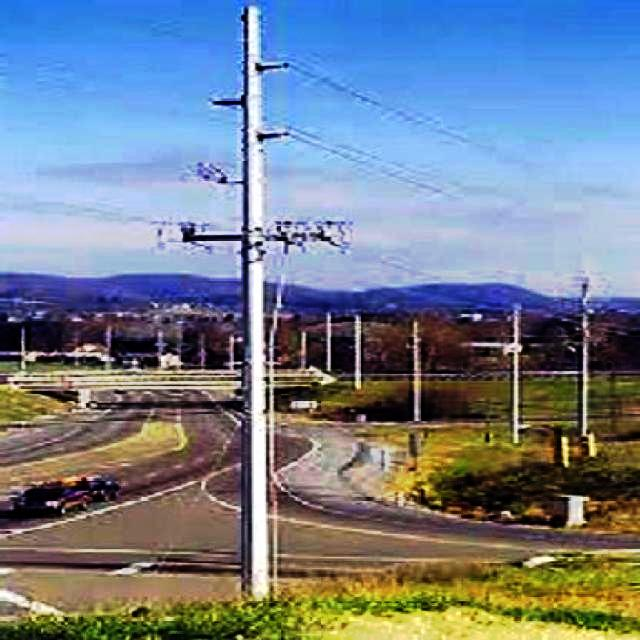poles: (163, 14, 331, 605)
